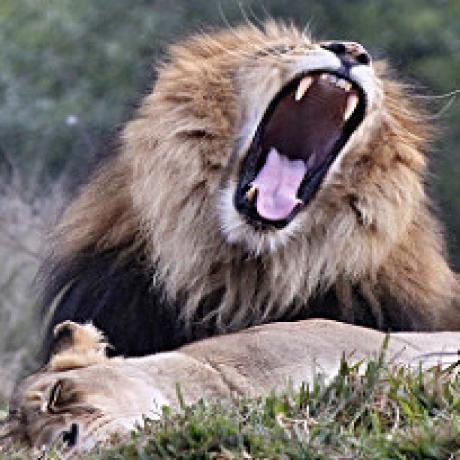Lion: (0, 13, 460, 348)
